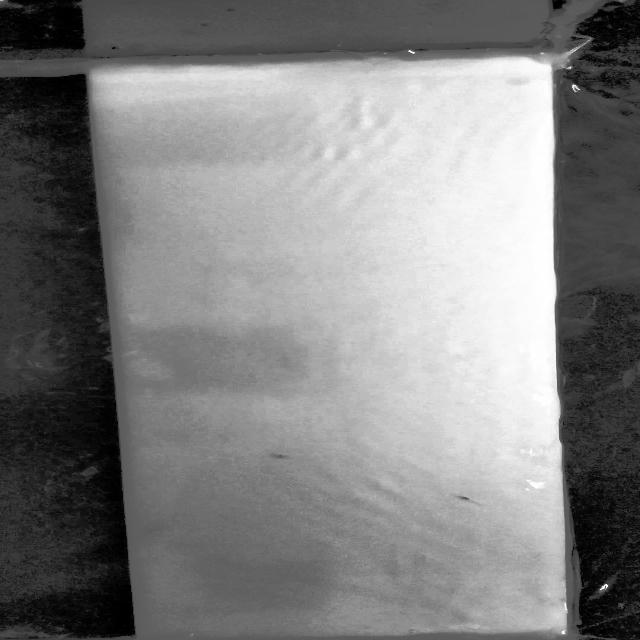shrimp: (450, 490, 486, 505), (260, 449, 299, 462), (136, 525, 167, 536)
